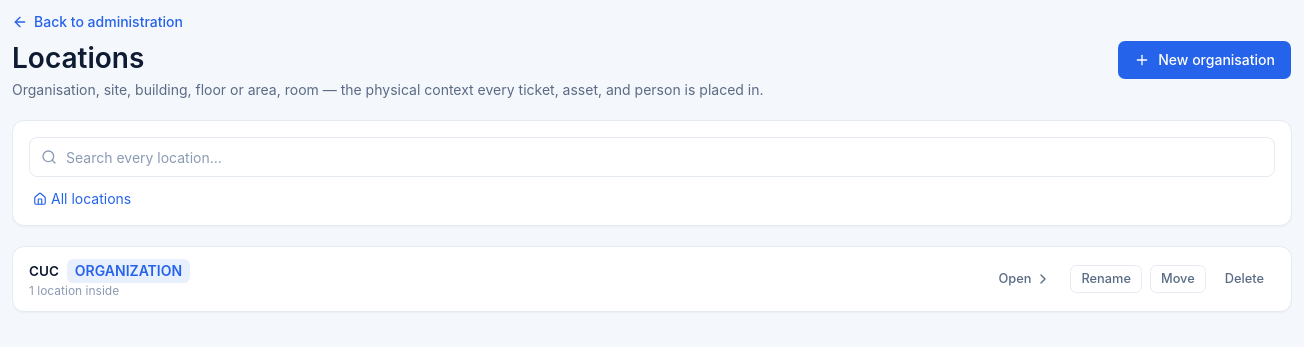
Test case: LocationsPage › walks into a node and says so in the address
Expected: the text "CUC" is shown, x1=29 y1=261 x2=59 y2=281
Click the button "Open": (1025, 279) x1=988 y1=265 x2=1062 y2=293
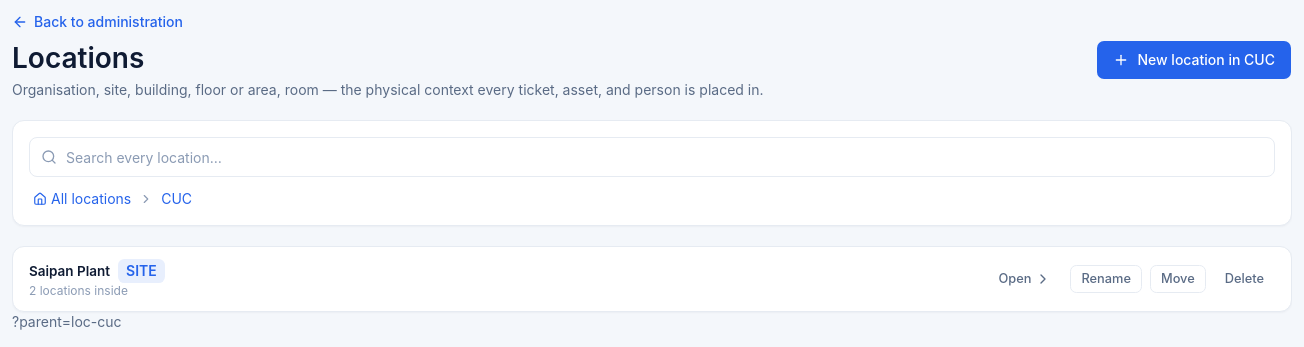
Result: the text with test id "address" shows "parent=loc-cuc" at x1=12 y1=313 x2=122 y2=330
Result: the text "Saipan Plant" is shown at x1=29 y1=261 x2=110 y2=281
